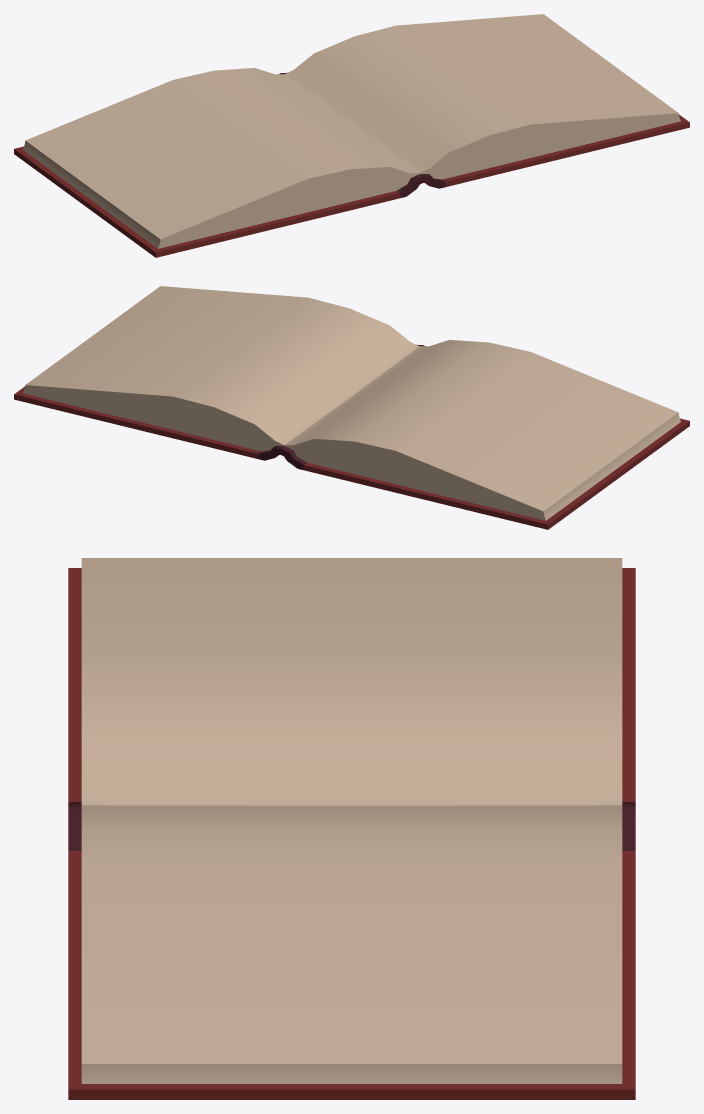
The model's file is Book_06_Open.fbx.
The picture shows the model from 3 angles, top to bottom: view 1: azimuth 30°, elevation 25°; view 2: azimuth 150°, elevation 25°; view 3: azimuth 270°, elevation 25°; orthographic projection. The views are drawn at different scales.
Parts seen in each view (by area): view 1: Book_06_Open; view 2: Book_06_Open; view 3: Book_06_Open.
Part boxes in pixels (<box>): Book_06_Open: <box>14,14,689,257</box>; Book_06_Open: <box>14,286,689,529</box>; Book_06_Open: <box>68,558,635,1099</box>.
Size of the model in its own units: 0.4722 by 0.0326 by 0.2172.
